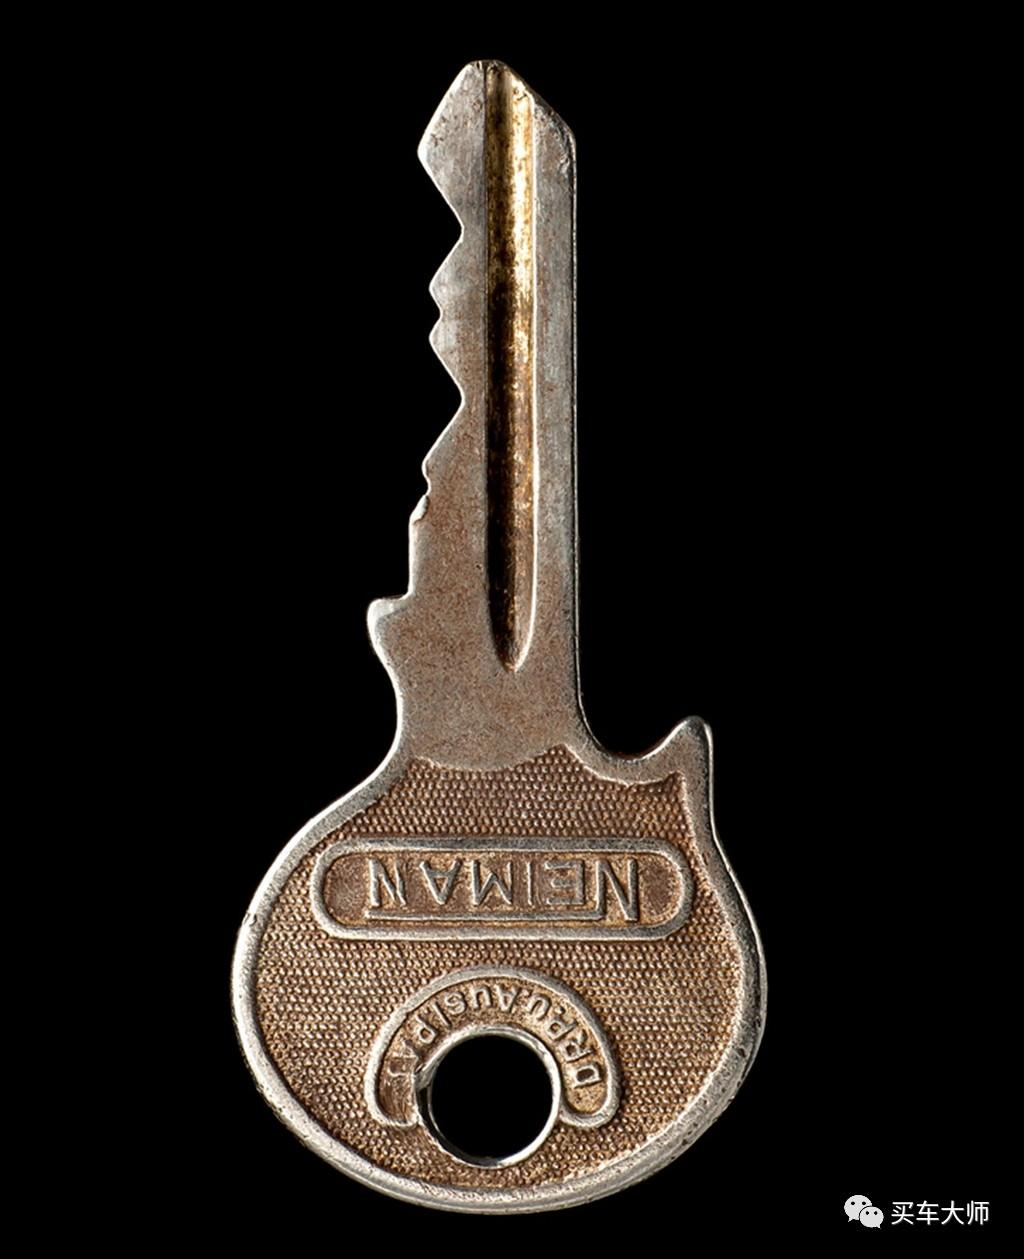key: (173, 57, 892, 1230)
